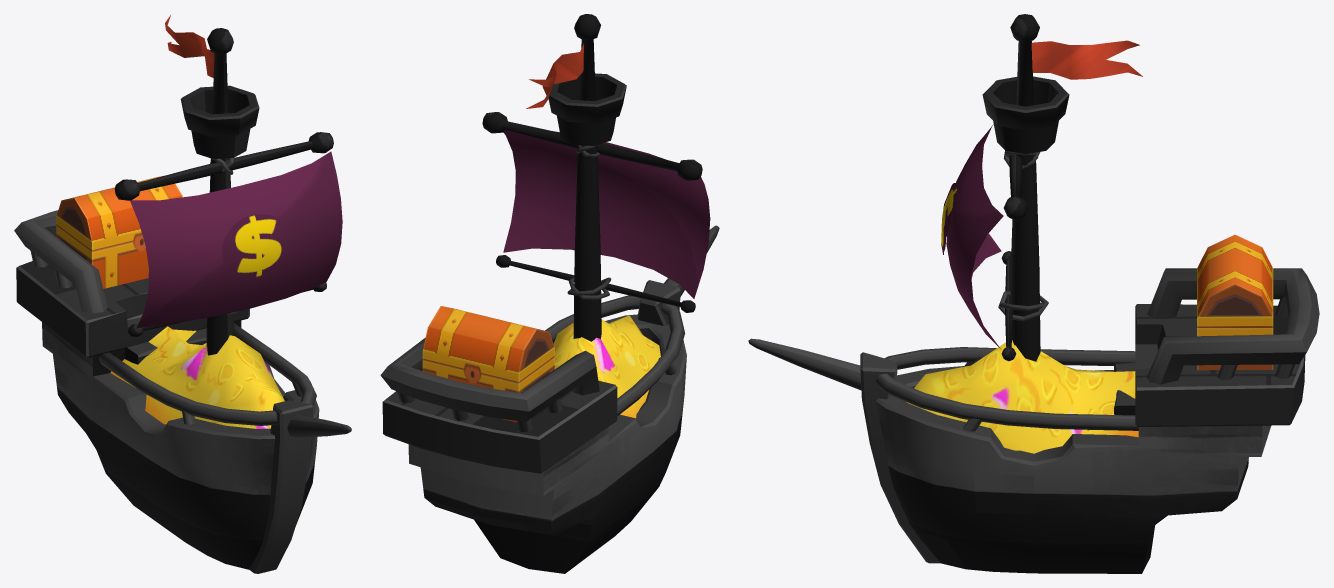
File: Sea_BLKF_VIP_M_GoldShip_A.fbx
3 views of the same model, side by side, from view 1: azimuth 30°, elevation 25°; view 2: azimuth 150°, elevation 25°; view 3: azimuth 270°, elevation 25° (orthographic). The views are drawn at different scales.
Visible parts, largest first — view 1: Color_01, Color_Cloth_01; view 2: Color_01, Color_Cloth_01; view 3: Color_01, Color_Cloth_01.
Boxes of the visible parts, left/top/right/bottom form: Color_01: left=14, top=15, right=351, bottom=573; Color_Cloth_01: left=130, top=151, right=342, bottom=328; Color_01: left=380, top=14, right=719, bottom=573; Color_Cloth_01: left=503, top=130, right=710, bottom=298; Color_01: left=748, top=14, right=1319, bottom=573; Color_Cloth_01: left=941, top=124, right=1003, bottom=348.
Size of the model in its own units: 20.81 by 46.48 by 44.3.
2 materials, 2 textured.
